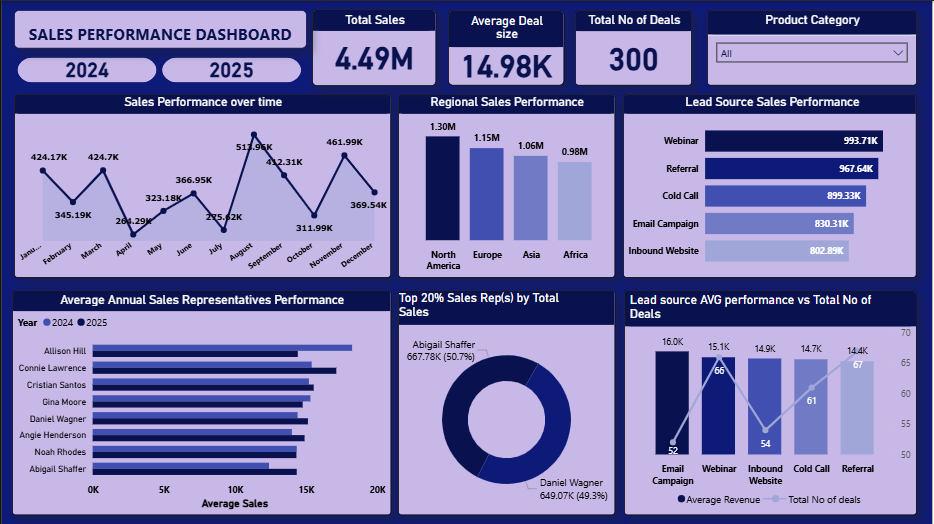

Layout of this report page (visuals, bound fields, positions):
{"tool":"powerbi","page":{"name":"Sales Performance Dashboard","canvas":[1280,720],"ordinal":0},"visuals":[{"type":"areaChart","title":"Sales Performance over time","fields":{"Category":["20250715 - Tufin Junior Data Analyst Data Set.Deal Date.Variation.Date Hierarchy.Year","20250715 - Tufin Junior Data Analyst Data Set.Deal Date.Variation.Date Hierarchy.Quarter","20250715 - Tufin Junior Data Analyst Data Set.Deal Date.Variation.Date Hierarchy.Month"],"Y":["20250715 - Tufin Junior Data Analyst Data Set.Deal Size (USD)"]},"box":[16.5,128,518.9,253.2],"z":0},{"type":"clusteredColumnChart","title":"Regional Sales Performance","fields":{"Category":["20250715 - Tufin Junior Data Analyst Data Set.Region"],"Y":["20250715 - Tufin Junior Data Analyst Data Set.Deal Size (USD)"]},"box":[545,128,298.7,253.2],"z":1000},{"type":"clusteredBarChart","title":"Lead Source Sales Performance","fields":{"Category":["20250715 - Tufin Junior Data Analyst Data Set.Lead Source"],"Y":["20250715 - Tufin Junior Data Analyst Data Set.Deal Size (USD)"]},"box":[854.3,128.6,404.3,252.9],"z":2000},{"type":"clusteredBarChart","title":"Average Annual Sales Representatives Performance","fields":{"Category":["20250715 - Tufin Junior Data Analyst Data Set.Sales Rep"],"Y":["20250715 - Tufin Junior Data Analyst Data Set.Average Revenue"],"Series":["20250715 - Tufin Junior Data Analyst Data Set.Deal Date.Variation.Date Hierarchy.Year"]},"box":[13.8,397.8,521.6,309.7],"z":3000},{"type":"card","title":"Total Sales","fields":{"Values":["20250715 - Tufin Junior Data Analyst Data Set.Total Revenue"]},"box":[427.1,11.4,171.4,105.7],"z":4000},{"type":"card","title":"Average Deal size","fields":{"Values":["20250715 - Tufin Junior Data Analyst Data Set.Average Revenue"]},"box":[614.3,12.9,160,104.3],"z":5000},{"type":"advancedSlicerVisual","fields":{"Values":["20250715 - Tufin Junior Data Analyst Data Set.Deal Date.Variation.Date Hierarchy.Year"]},"box":[17.1,72.9,400,44.3],"z":6000},{"type":"donutChart","title":"Top 20% Sales Rep(s) by Total Sales","fields":{"Category":["20250715 - Tufin Junior Data Analyst Data Set.Sales Rep"],"Y":["20250715 - Tufin Junior Data Analyst Data Set.Deal Size (USD)"]},"box":[545,397.8,298.7,309.7],"z":7000},{"type":"slicer","title":"Product Category","fields":{"Values":["20250715 - Tufin Junior Data Analyst Data Set.Product"]},"box":[970,12.9,288.6,104.3],"z":8000},{"type":"lineStackedColumnComboChart","title":"Lead source AVG performance vs Total No of Deals","fields":{"Category":["20250715 - Tufin Junior Data Analyst Data Set.Lead Source"],"Y":["20250715 - Tufin Junior Data Analyst Data Set.Deal Size (USD)"],"Y2":["20250715 - Tufin Junior Data Analyst Data Set.Deal Size (USD)"]},"box":[856.1,397.8,403.3,309.7],"z":9000},{"type":"textbox","box":[17.1,12.9,402.9,52.9],"z":10000},{"type":"card","title":"Total No of Deals","fields":{"Values":["20250715 - Tufin Junior Data Analyst Data Set.No of Deals"]},"box":[788.6,12.9,161.4,104.3],"z":11000}]}

Visuals, with their boxes in screenshot pixels (x1, y1, x2, y2), scaled from the page's 1280x720 canvas onto the 934x524 screenshot:
"Sales Performance over time" areaChart: {"left": 12, "top": 93, "right": 391, "bottom": 277}
"Regional Sales Performance" clusteredColumnChart: {"left": 398, "top": 93, "right": 616, "bottom": 277}
"Lead Source Sales Performance" clusteredBarChart: {"left": 623, "top": 94, "right": 918, "bottom": 278}
"Average Annual Sales Representatives Performance" clusteredBarChart: {"left": 10, "top": 290, "right": 391, "bottom": 515}
"Total Sales" card: {"left": 312, "top": 8, "right": 437, "bottom": 85}
"Average Deal size" card: {"left": 448, "top": 9, "right": 565, "bottom": 85}
advancedSlicerVisual - 20250715 - Tufin Junior Data Analyst Data Set.Deal Date.Variation.Date Hierarchy.Year: {"left": 12, "top": 53, "right": 304, "bottom": 85}
"Top 20% Sales Rep(s) by Total Sales" donutChart: {"left": 398, "top": 290, "right": 616, "bottom": 515}
"Product Category" slicer: {"left": 708, "top": 9, "right": 918, "bottom": 85}
"Lead source AVG performance vs Total No of Deals" lineStackedColumnComboChart: {"left": 625, "top": 290, "right": 919, "bottom": 515}
textbox: {"left": 12, "top": 9, "right": 306, "bottom": 48}
"Total No of Deals" card: {"left": 575, "top": 9, "right": 693, "bottom": 85}
